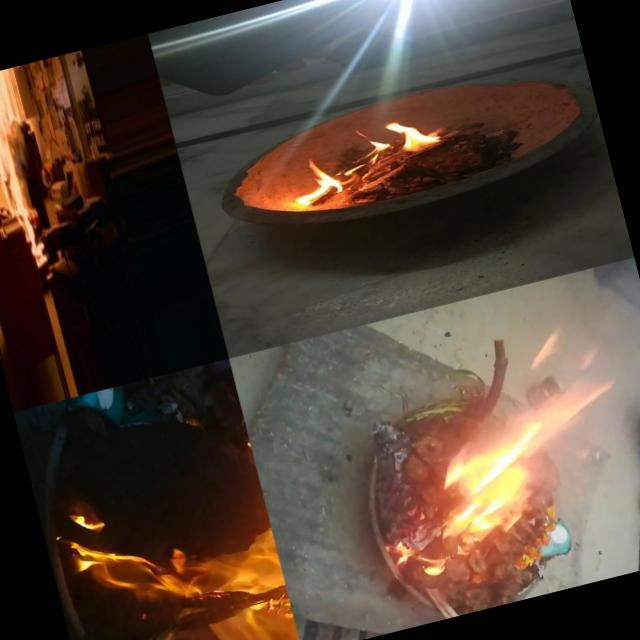fire: (284, 110, 454, 208), (563, 447, 640, 582), (0, 68, 47, 249)
